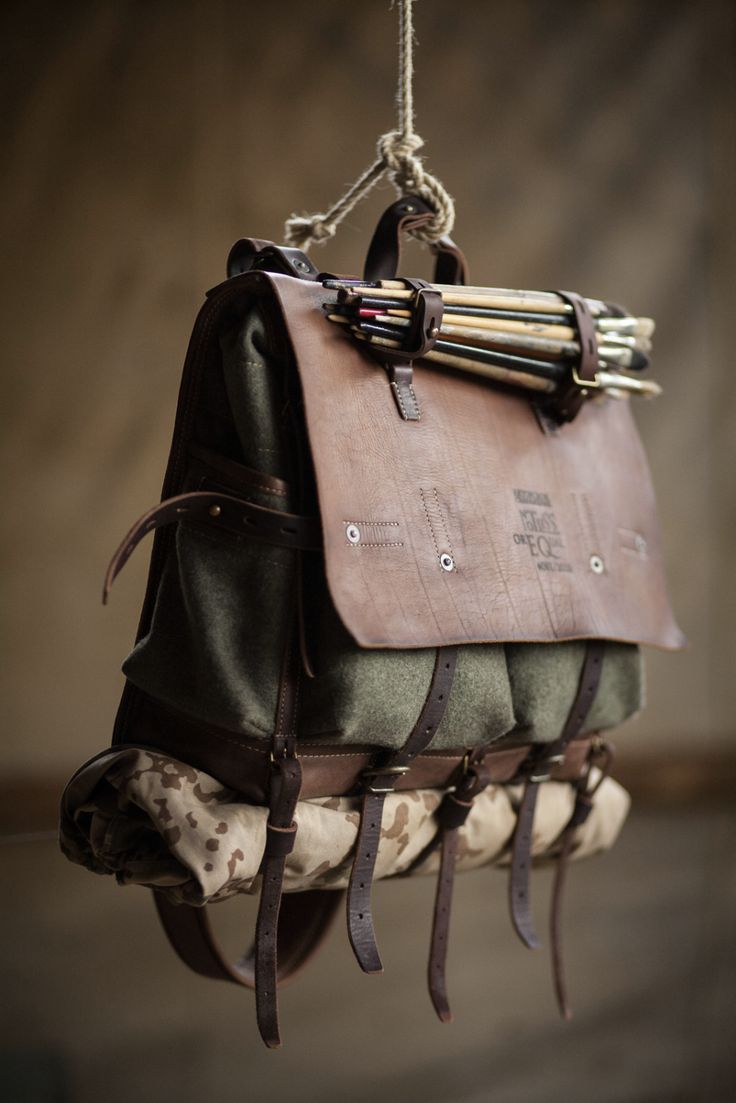cuero: (65, 199, 687, 1058)
